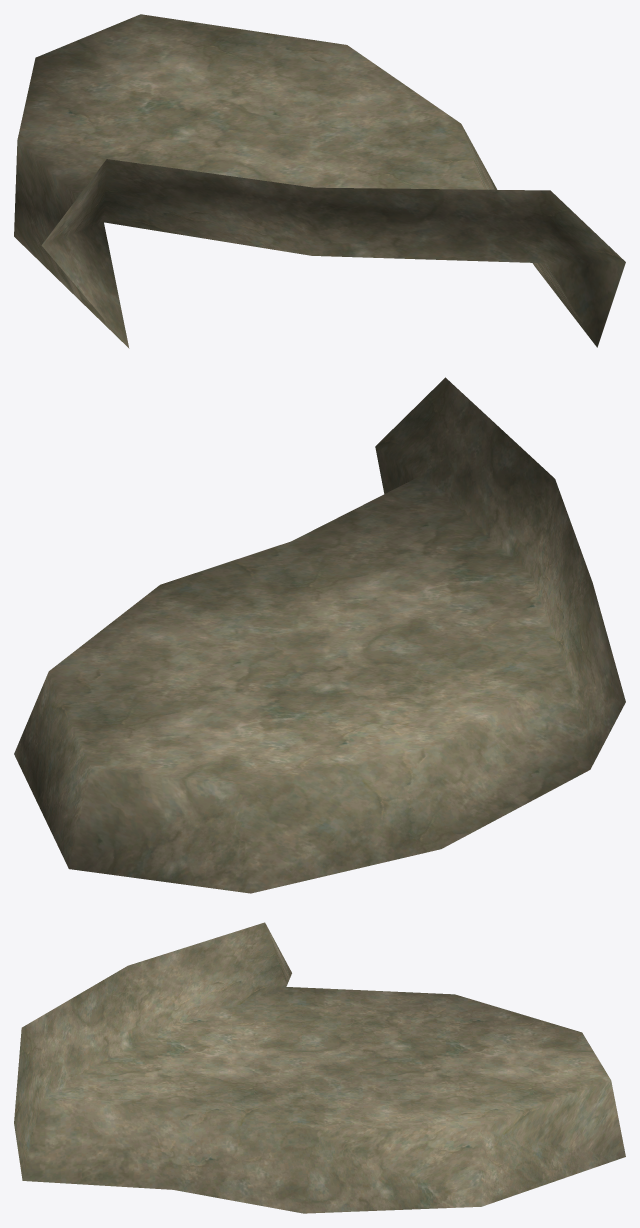
The model's file is EKH_GROTTO_PS_GR_OBJECT14.fbx.
The picture shows the model from 3 angles, top to bottom: view 1: azimuth 30°, elevation 25°; view 2: azimuth 150°, elevation 25°; view 3: azimuth 270°, elevation 25°; orthographic projection. The views are drawn at different scales.
Visible parts, largest first — view 1: EKH_GROTTO_PS_GR_OBJECT14; view 2: EKH_GROTTO_PS_GR_OBJECT14; view 3: EKH_GROTTO_PS_GR_OBJECT14.
Part boxes in pixels (x1,y1,x2,y2): EKH_GROTTO_PS_GR_OBJECT14: [14, 14, 625, 348]; EKH_GROTTO_PS_GR_OBJECT14: [14, 377, 625, 893]; EKH_GROTTO_PS_GR_OBJECT14: [14, 922, 625, 1213].
Size of the model in its own units: 30835 by 12256 by 43844.
Materials: 1 (1 with a texture image).
